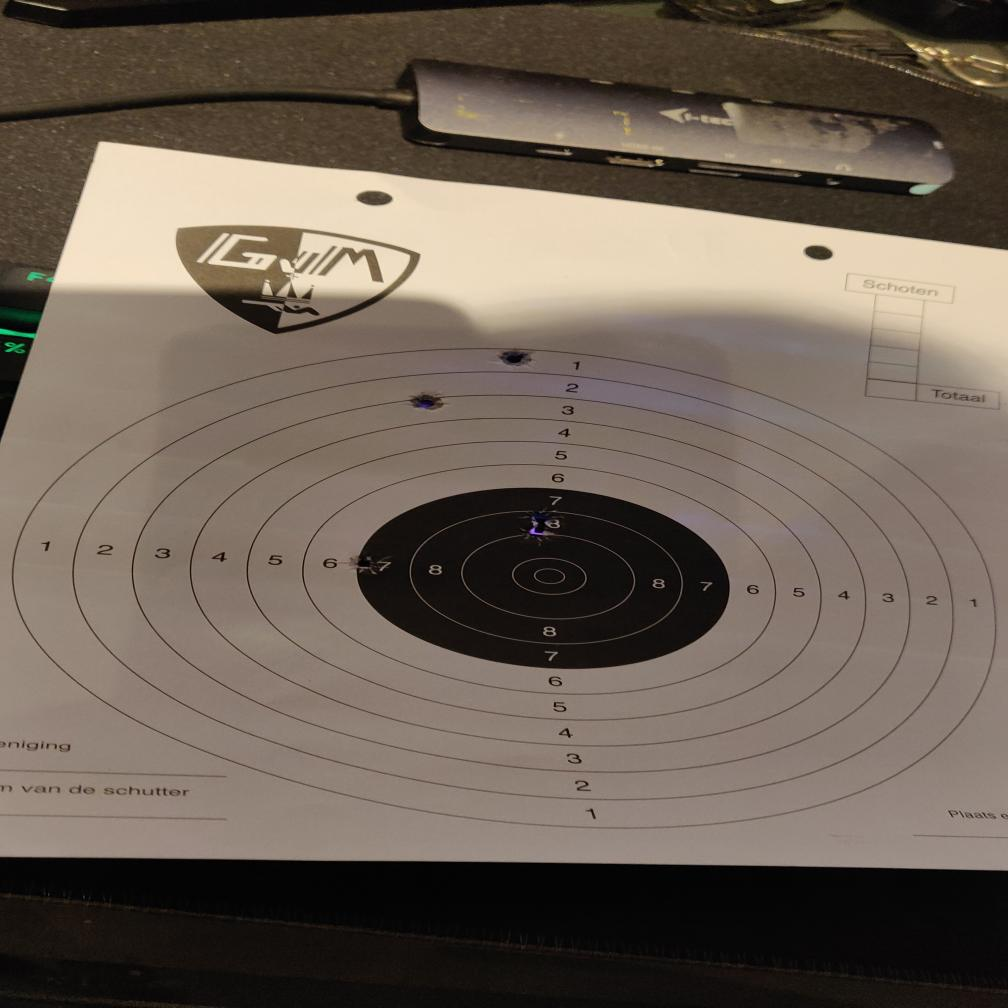1: (493, 348, 540, 369)
3: (403, 390, 453, 411)
7: (341, 554, 392, 574)
8: (521, 508, 562, 525)
9: (514, 525, 559, 545)
Target: (12, 346, 1003, 831)
black_contour: (357, 487, 734, 669)
